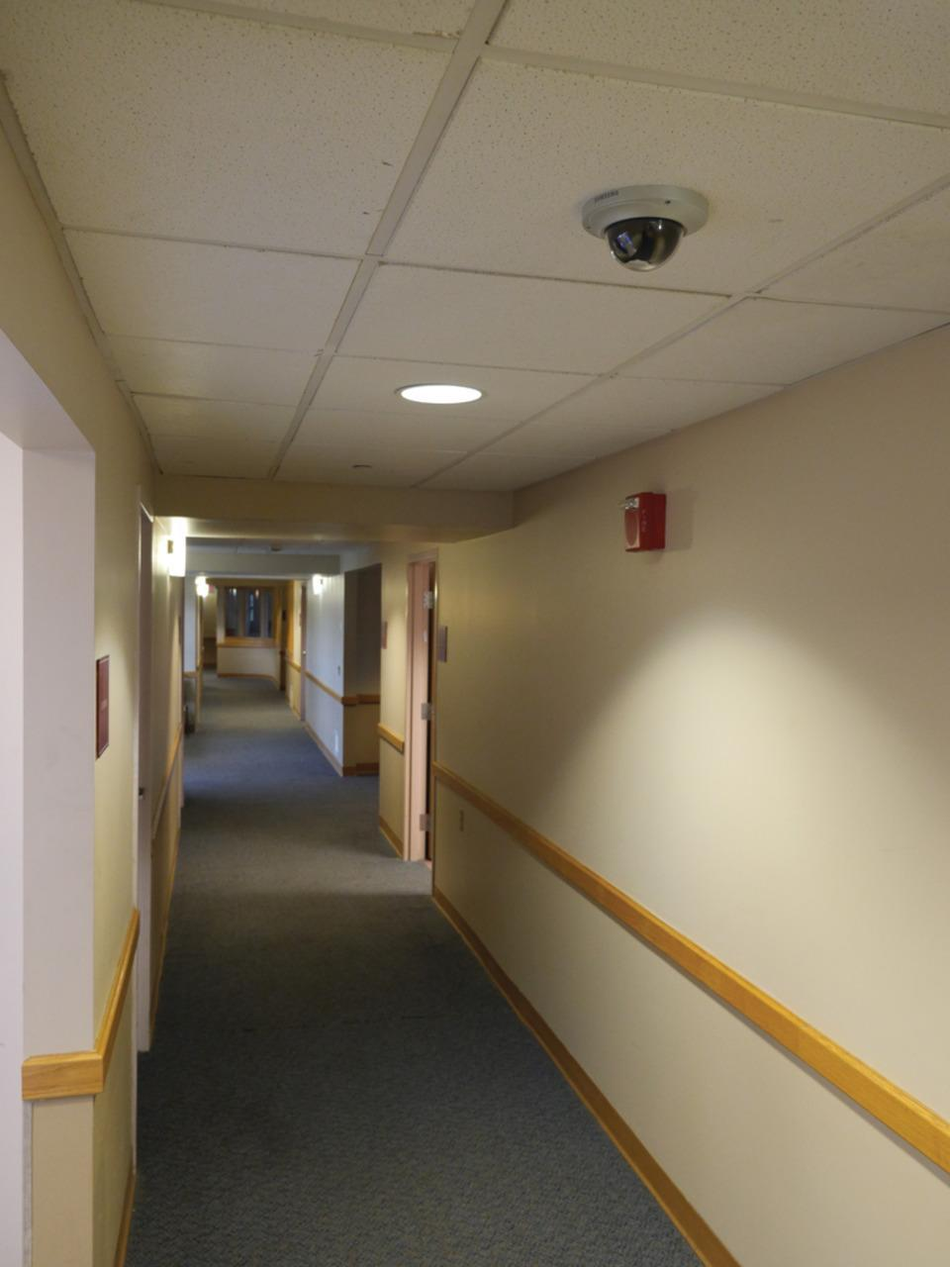CCTV: (582, 183, 708, 270)
